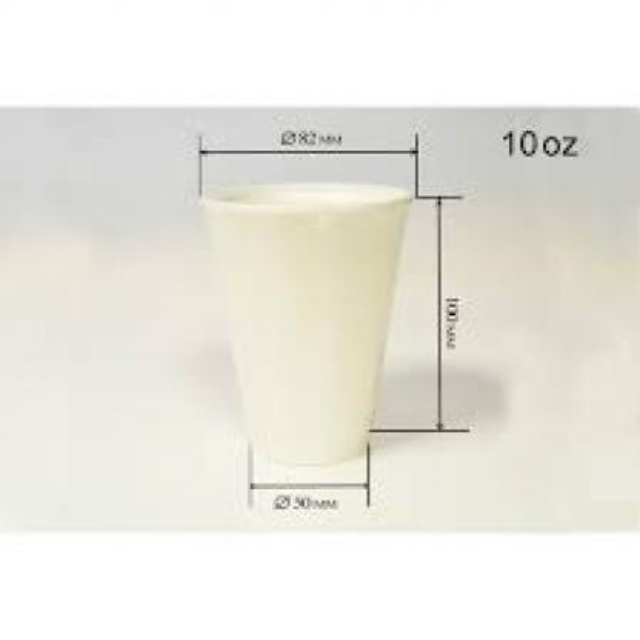trash: (205, 183, 409, 482)
